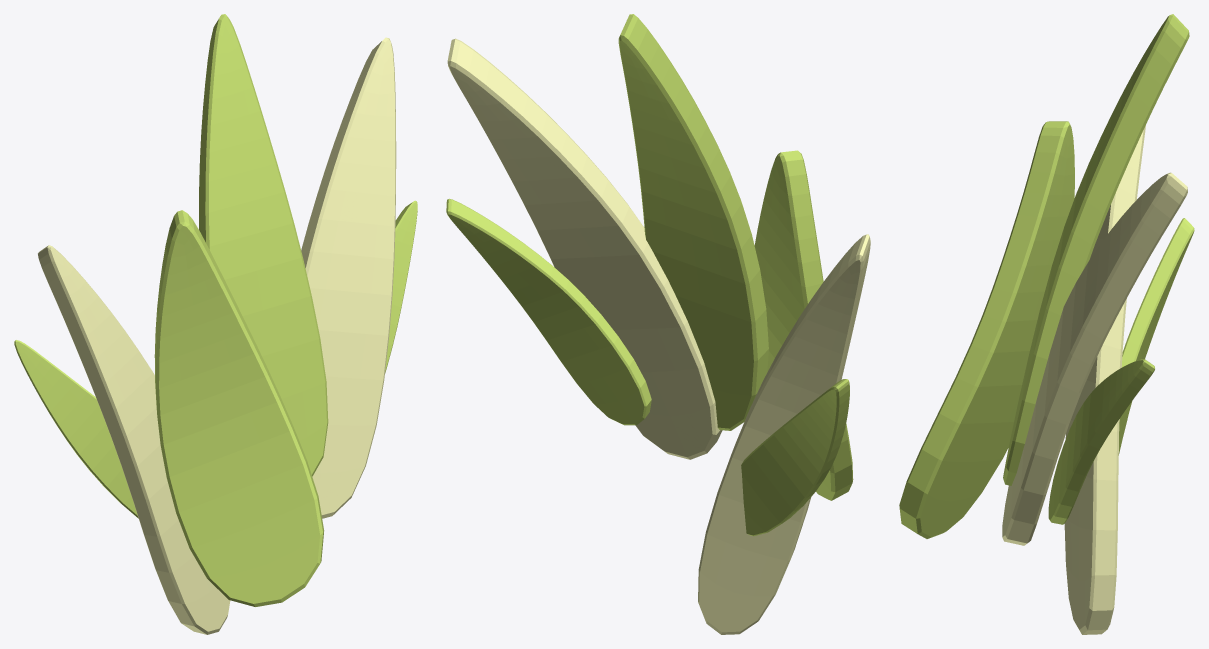
The model's file is Grass_01.fbx.
3 renders of one model, left to right at view 1: azimuth 30°, elevation 25°; view 2: azimuth 150°, elevation 25°; view 3: azimuth 270°, elevation 25°, orthographic. The views are drawn at different scales.
Visible parts, largest first — view 1: group6; view 2: group6; view 3: group6.
Part boxes in pixels (x1,y1,x2,y2): group6: [14, 14, 417, 634]; group6: [446, 14, 870, 634]; group6: [899, 14, 1194, 634].
Bounding box in the file's own units: 13.63 × 19.55 × 8.09.
